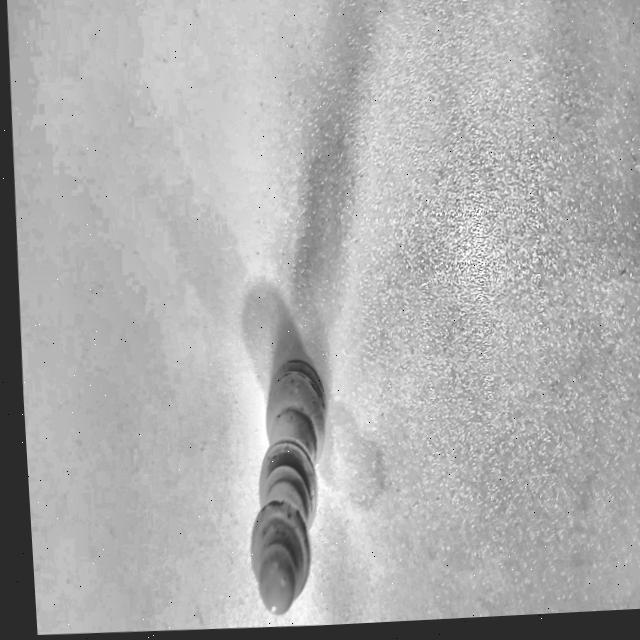white-queen: (190, 292, 372, 631)
